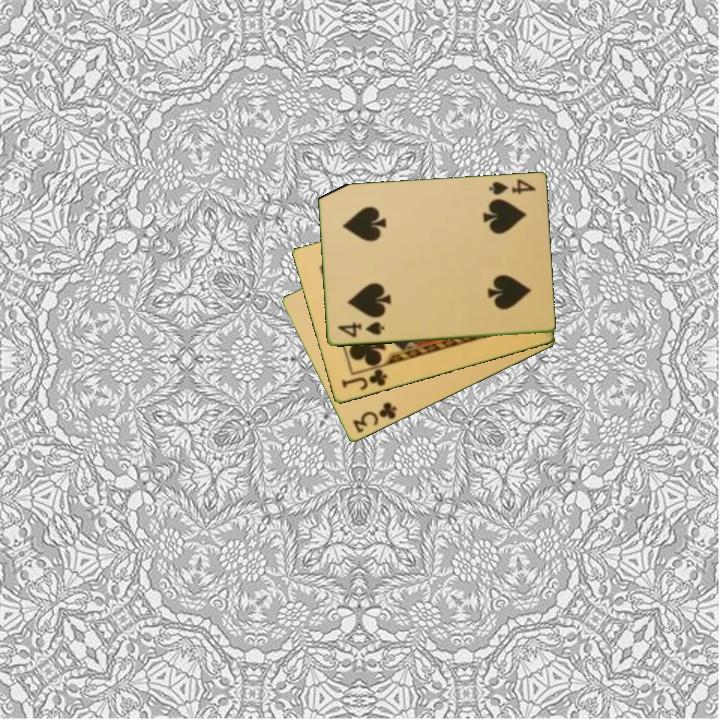3c: (349, 399, 399, 436)
4s: (485, 176, 539, 198), (334, 319, 387, 341)
Jc: (338, 365, 390, 393)
